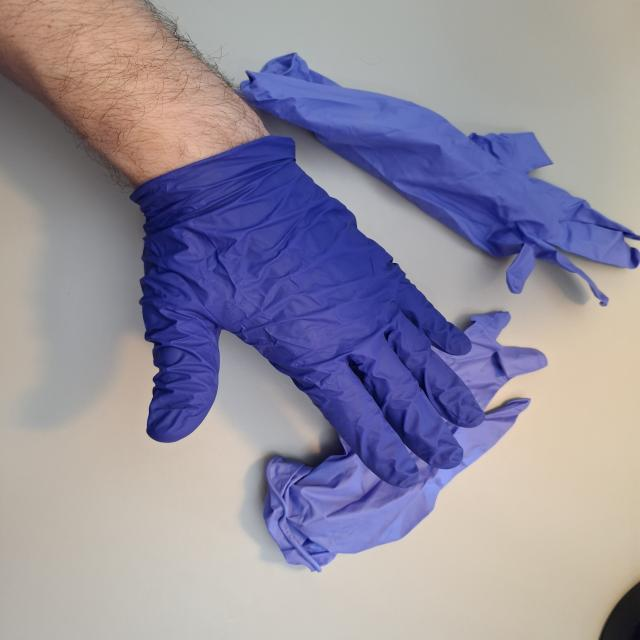glove_on: (128, 133, 490, 491)
